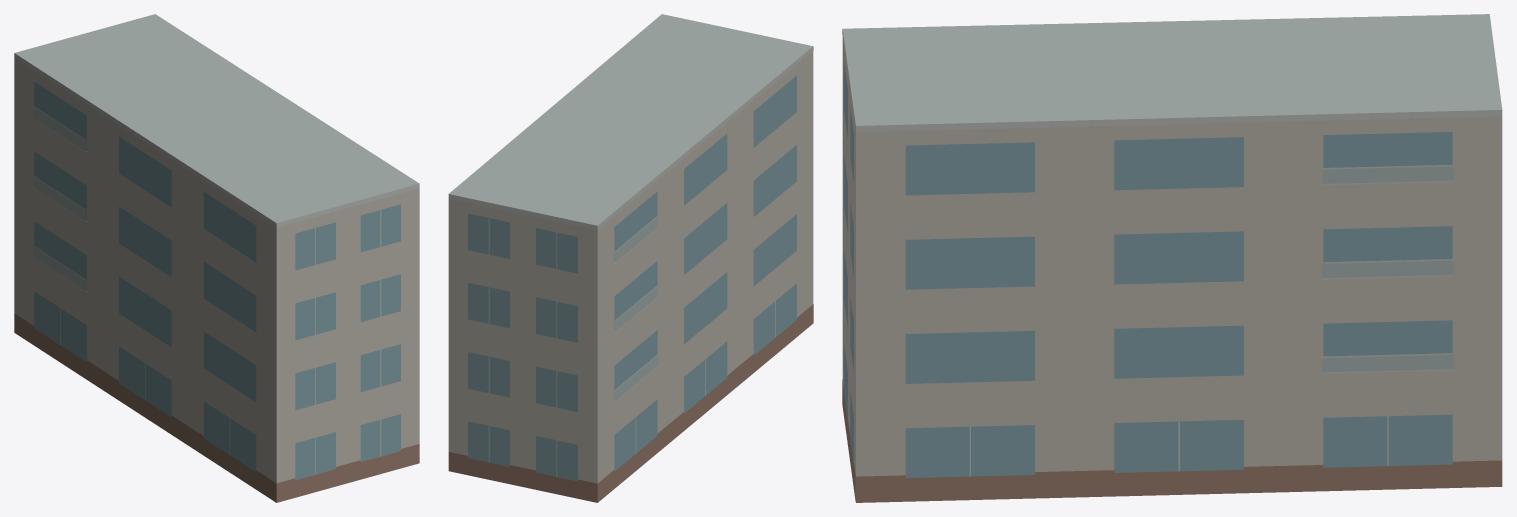
The model's file is survey-upis-32744391.glb.
3 views of the same model, side by side, from view 1: azimuth 30°, elevation 25°; view 2: azimuth 150°, elevation 25°; view 3: azimuth 270°, elevation 25° (orthographic). The views are drawn at different scales.
Parts seen in each view (by area): view 1: survey-upis-32744391.tmp; view 2: survey-upis-32744391.tmp; view 3: survey-upis-32744391.tmp.
Boxes of the visible parts, left/top/right/bottom form: survey-upis-32744391.tmp: left=14, top=14, right=419, bottom=502; survey-upis-32744391.tmp: left=448, top=14, right=813, bottom=502; survey-upis-32744391.tmp: left=842, top=14, right=1502, bottom=502.
Size of the model in its own units: 9.26 by 14.52 by 23.05.
